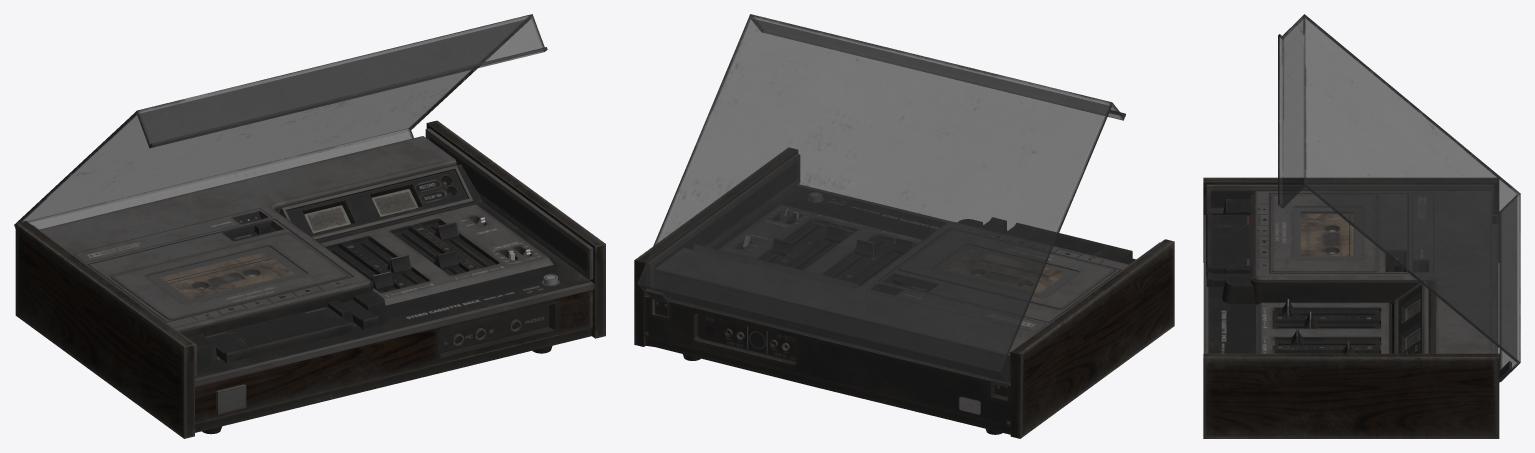
Rendered from tape_player.glb.
The picture shows the model from 3 angles, left to right: view 1: azimuth 30°, elevation 25°; view 2: azimuth 150°, elevation 25°; view 3: azimuth 270°, elevation 25°; orthographic projection. The views are drawn at different scales.
Visible parts, largest first — view 1: CassetteDeckLid_low, CassetteDeckBase_low, CassetteDeckFrame_low, CassetteDecksides_low, CassetteDecksides_low.001, Dials_low, glass, CassetteLid_low, Screens_low, Cassette_low, CassetteDeckDialsPorts_low, Logo_low; view 2: CassetteDeckLid_low, CassetteDeckBase_low, CassetteDeckFrame_low, CassetteDecksides_low, CassetteDecksides_low.001, CassetteLid_low, glass, Dials_low, Cassette_low, Screens_low; view 3: CassetteDeckLid_low, CassetteDecksides_low.001, CassetteDeckFrame_low, CassetteDeckBase_low, CassetteDecksides_low, CassetteLid_low, glass, Dials_low, Cassette_low, Screens_low, CassetteDeckDialsPorts_low.
Part boxes in pixels (left/top/right/bottom): CassetteDeckLid_low: left=14, top=14, right=547, bottom=229; CassetteDeckBase_low: left=195, top=203, right=594, bottom=432; CassetteDeckFrame_low: left=39, top=136, right=457, bottom=336; CassetteDecksides_low: left=15, top=221, right=196, bottom=438; CassetteDecksides_low.001: left=202, top=120, right=605, bottom=434; Dials_low: left=205, top=217, right=557, bottom=363; glass: left=147, top=188, right=418, bottom=303; CassetteLid_low: left=112, top=233, right=347, bottom=319; Screens_low: left=279, top=165, right=473, bottom=239; Cassette_low: left=160, top=252, right=294, bottom=299; CassetteDeckDialsPorts_low: left=186, top=164, right=484, bottom=370; Logo_low: left=216, top=384, right=246, bottom=414; CassetteDeckLid_low: left=637, top=14, right=1125, bottom=384; CassetteDeckBase_low: left=644, top=184, right=1010, bottom=434; CassetteDeckFrame_low: left=654, top=222, right=1129, bottom=387; CassetteDecksides_low: left=1009, top=239, right=1174, bottom=438; CassetteDecksides_low.001: left=634, top=147, right=1002, bottom=434; CassetteLid_low: left=899, top=230, right=1114, bottom=309; glass: left=933, top=245, right=1078, bottom=297; Dials_low: left=743, top=192, right=1132, bottom=285; Cassette_low: left=947, top=250, right=1066, bottom=292; Screens_low: left=693, top=244, right=858, bottom=287; CassetteDeckLid_low: left=1278, top=14, right=1520, bottom=381; CassetteDecksides_low.001: left=1203, top=353, right=1499, bottom=438; CassetteDeckFrame_low: left=1251, top=191, right=1492, bottom=353; CassetteDeckBase_low: left=1203, top=215, right=1498, bottom=353; CassetteDecksides_low: left=1203, top=177, right=1498, bottom=262; CassetteLid_low: left=1272, top=195, right=1376, bottom=271; glass: left=1293, top=207, right=1420, bottom=349; Dials_low: left=1206, top=213, right=1401, bottom=353; Cassette_low: left=1300, top=213, right=1354, bottom=256; Screens_low: left=1394, top=280, right=1428, bottom=353; CassetteDeckDialsPorts_low: left=1222, top=199, right=1431, bottom=353.
Bounding box in the file's own units: 188 × 127 × 140.
1 material, 1 textured.
